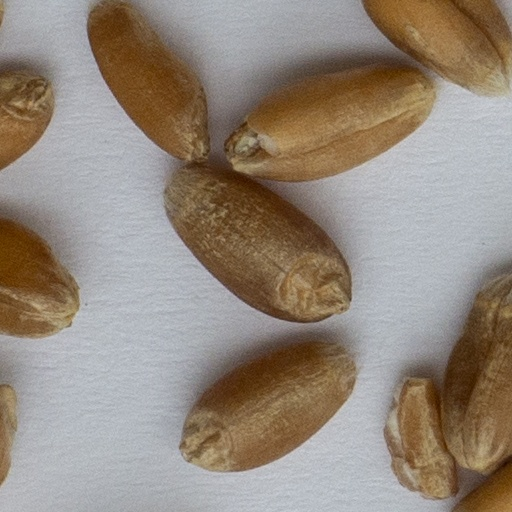Wheat-grain-damaged-poly: (379, 362, 460, 498)
